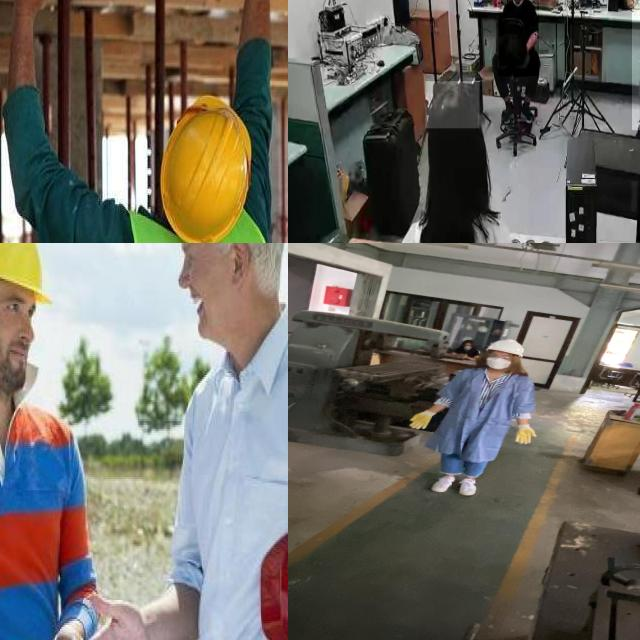No_Ear-Protection: (229, 243, 255, 289)
No_Glasses: (0, 293, 39, 322), (174, 243, 212, 271)
face_mask: (482, 352, 514, 369)
face_nomask: (175, 243, 232, 333), (0, 291, 41, 376)
glasses: (483, 354, 515, 361)
hand_glove: (406, 410, 436, 431), (513, 426, 541, 446)
hand_noglove: (77, 592, 150, 640)
head_helmet: (410, 336, 538, 495), (155, 89, 254, 243), (0, 243, 55, 309), (479, 338, 526, 356)
head_nohelmet: (426, 81, 480, 129)
person: (140, 243, 288, 640), (0, 243, 105, 640), (57, 62, 275, 243), (414, 76, 528, 243), (498, 0, 539, 76)
shoes: (428, 472, 457, 494), (456, 476, 481, 497), (502, 98, 516, 126), (520, 100, 533, 124)
